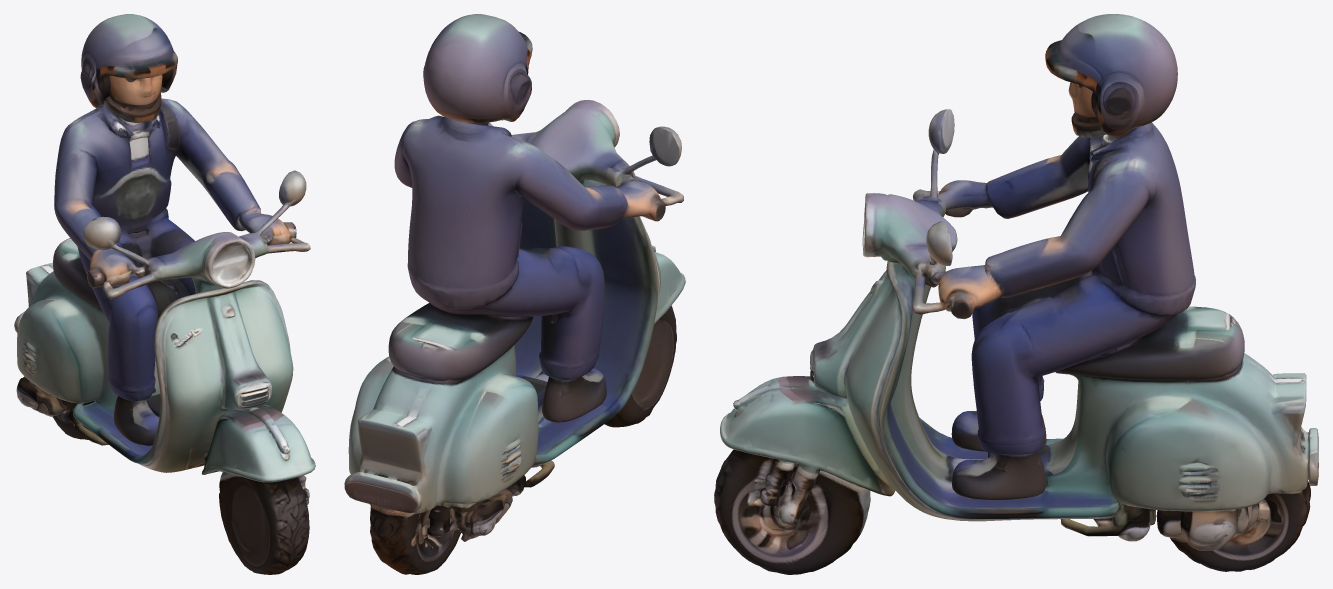
Rendered from npc-vespa.glb.
The picture shows the model from 3 angles, left to right: view 1: azimuth 30°, elevation 25°; view 2: azimuth 150°, elevation 25°; view 3: azimuth 270°, elevation 25°; orthographic projection. The views are drawn at different scales.
Parts seen in each view (by area): view 1: tripo_node_4150fefa-8a8f-4ca5-827f-8def739759d9; view 2: tripo_node_4150fefa-8a8f-4ca5-827f-8def739759d9; view 3: tripo_node_4150fefa-8a8f-4ca5-827f-8def739759d9.
Boxes of the visible parts, x1,y1,x2,y2 form: tripo_node_4150fefa-8a8f-4ca5-827f-8def739759d9: [14, 14, 315, 574]; tripo_node_4150fefa-8a8f-4ca5-827f-8def739759d9: [344, 14, 685, 574]; tripo_node_4150fefa-8a8f-4ca5-827f-8def739759d9: [714, 14, 1318, 574].
Bounding box in the file's own units: 0.5052 × 0.9998 × 0.9947.
1 material, 1 textured.
